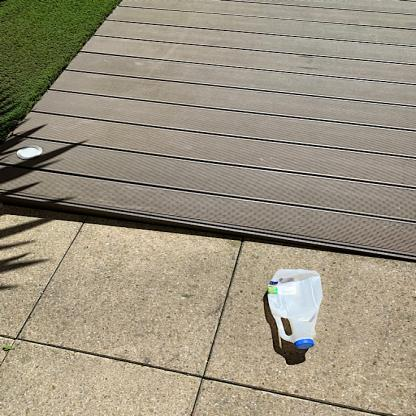trash: (262, 262, 334, 358)
